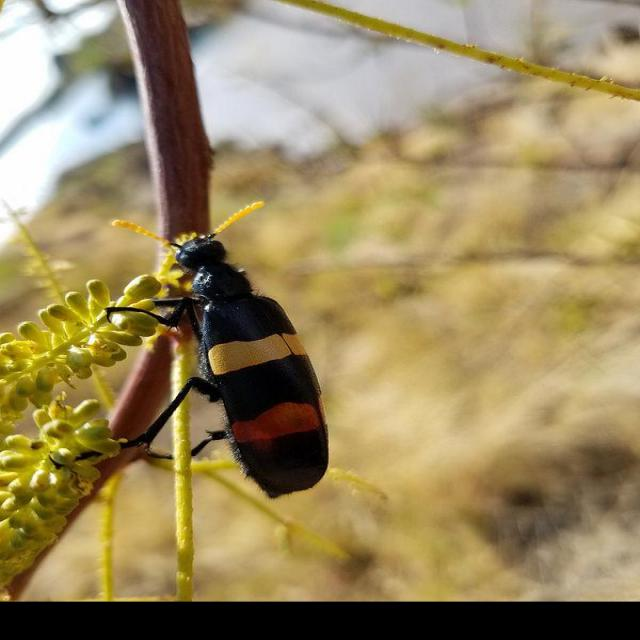BlisterBeetle-Adult-: (98, 194, 330, 506)
